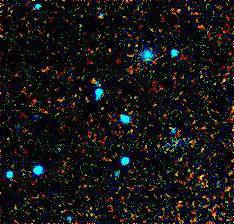star: (81, 63, 111, 93)
